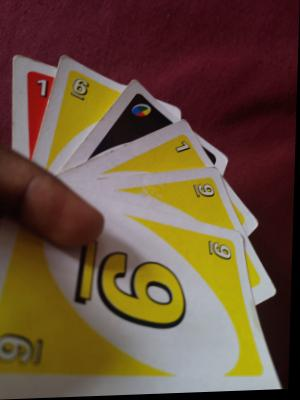num_1: (162, 136, 197, 175), (26, 77, 53, 102)
num_6: (70, 73, 95, 124)
num_9: (68, 241, 193, 336), (197, 240, 243, 304), (168, 179, 219, 227)
red: (14, 63, 56, 144)
wild: (125, 97, 155, 138)
yellow: (0, 316, 56, 382)
